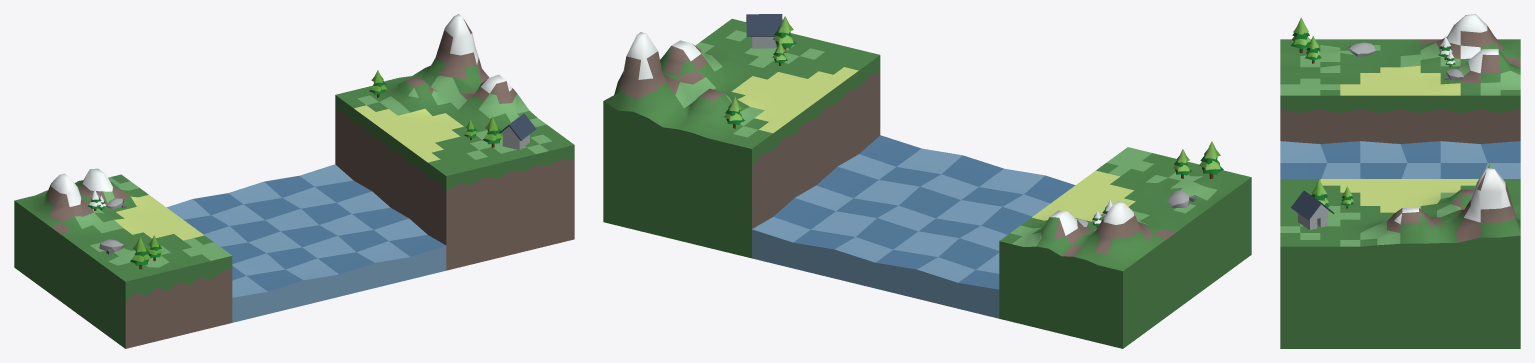
File: TestLevelTerrain.fbx
3 views of the same model, side by side, from view 1: azimuth 30°, elevation 25°; view 2: azimuth 150°, elevation 25°; view 3: azimuth 270°, elevation 25° (orthographic). The views are drawn at different scales.
Parts seen in each view (by area): view 1: Box047, Box045, Box046, Cone013, Box048, Box050; view 2: Box047, Box045, Box046, Cone013, Box048; view 3: Box047, Box045, Box046, Cone013, Box048, Box050.
Part boxes in pixels (bbox=[...]): Box047: bbox=[335, 14, 574, 270]; Box045: bbox=[14, 168, 232, 348]; Box046: bbox=[166, 164, 446, 322]; Cone013: bbox=[88, 70, 502, 269]; Box048: bbox=[499, 113, 536, 150]; Box050: bbox=[99, 198, 126, 254]; Box047: bbox=[603, 19, 880, 258]; Box045: bbox=[999, 147, 1251, 348]; Box046: bbox=[752, 135, 1075, 318]; Cone013: bbox=[724, 16, 1223, 227]; Box048: bbox=[746, 14, 782, 48]; Box047: bbox=[1280, 167, 1520, 348]; Box045: bbox=[1280, 14, 1520, 143]; Box046: bbox=[1280, 141, 1520, 178]; Cone013: bbox=[1291, 17, 1492, 208]; Box048: bbox=[1290, 190, 1334, 230]; Box050: bbox=[1349, 42, 1463, 80].
Bounding box in the file's own units: 840 × 281 × 360.
15 materials, 15 textured.
